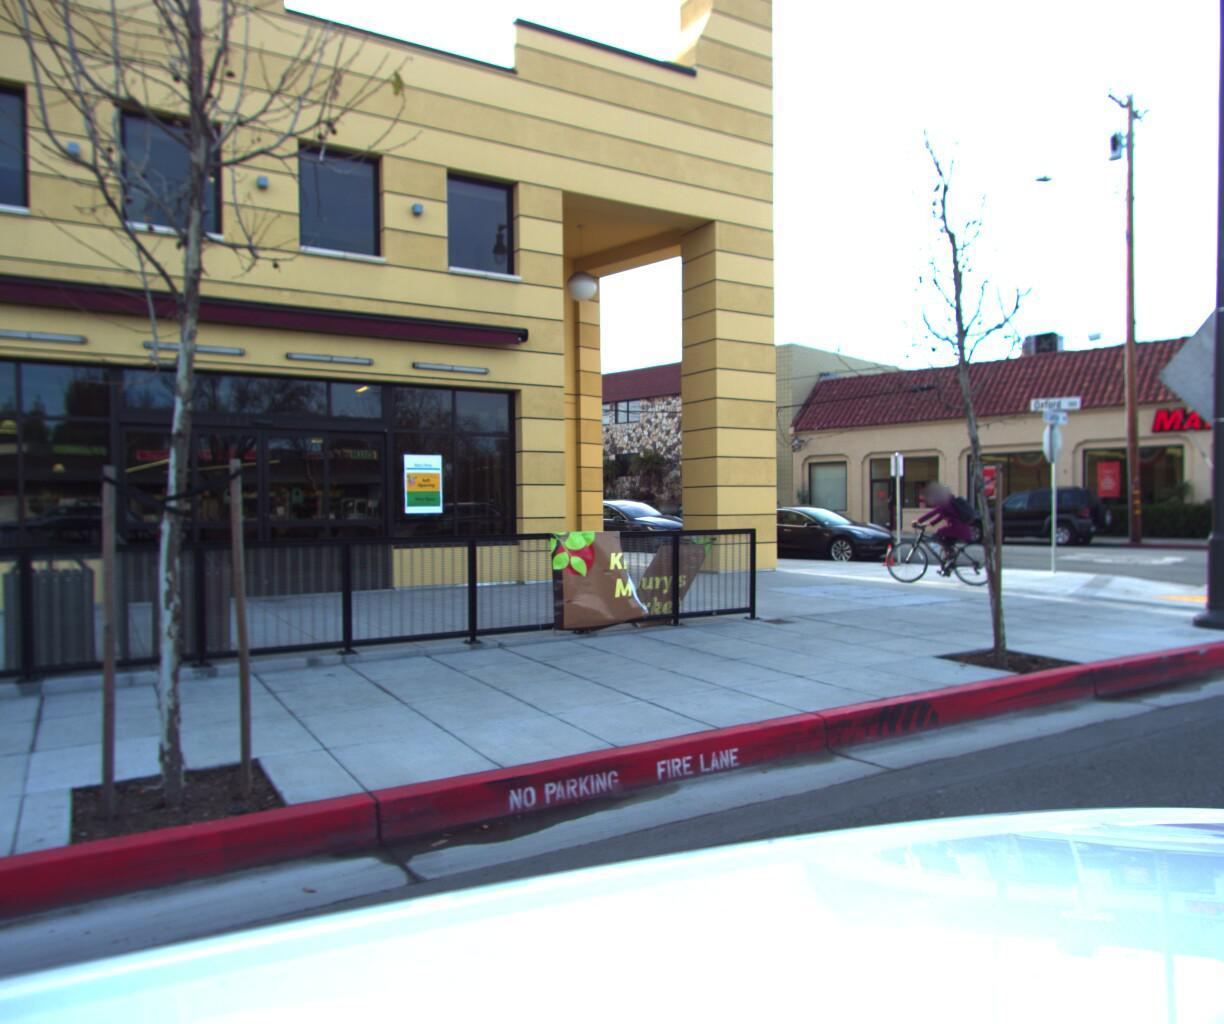bicycle: (870, 472, 1023, 588)
car: (714, 501, 909, 568), (950, 482, 1122, 545), (544, 494, 705, 555), (399, 494, 531, 549)
